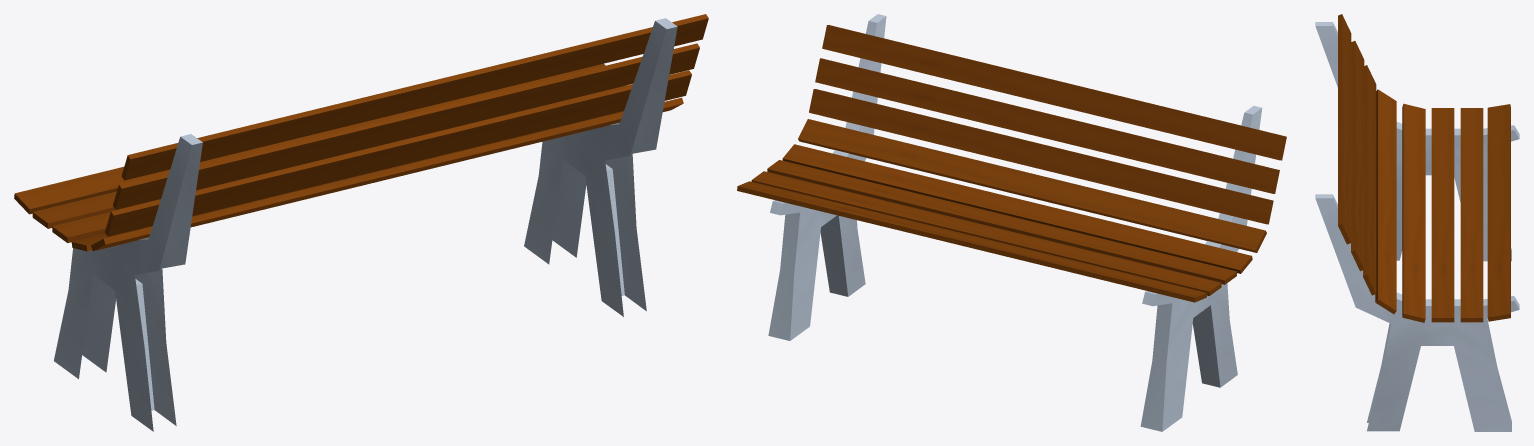
Rendered from Bench.FBX.
3 views of the same model, side by side, from view 1: azimuth 30°, elevation 25°; view 2: azimuth 150°, elevation 25°; view 3: azimuth 270°, elevation 25° (orthographic). The views are drawn at different scales.
Parts seen in each view (by area): view 1: Legs, Plank008, Plank007, Plank006, Plank005, Plank002, Plank001, Plank003, Plank004; view 2: Legs, Plank008, Plank007, Plank006, Plank005, Plank004, Plank003, Plank001, Plank002; view 3: Legs, Plank001, Plank003, Plank002, Plank004, Plank005, Plank008, Plank007, Plank006.
Part boxes in pixels (x1=…): Legs: x1=54, y1=18, x2=677, y2=431; Plank008: x1=121, y1=14, x2=708, y2=180; Plank007: x1=113, y1=43, x2=699, y2=209; Plank006: x1=105, y1=70, x2=691, y2=236; Plank005: x1=91, y1=97, x2=683, y2=251; Plank002: x1=14, y1=63, x2=605, y2=214; Plank001: x1=32, y1=85, x2=624, y2=228; Plank003: x1=52, y1=212, x2=110, y2=243; Plank004: x1=71, y1=111, x2=623, y2=251; Legs: x1=768, y1=14, x2=1262, y2=431; Plank008: x1=822, y1=25, x2=1286, y2=160; Plank007: x1=815, y1=58, x2=1279, y2=193; Plank006: x1=809, y1=89, x2=1273, y2=224; Plank005: x1=798, y1=119, x2=1266, y2=252; Plank004: x1=782, y1=144, x2=1252, y2=273; Plank003: x1=767, y1=160, x2=1236, y2=284; Plank001: x1=751, y1=171, x2=1221, y2=295; Plank002: x1=737, y1=181, x2=1207, y2=302; Legs: x1=1315, y1=22, x2=1519, y2=431; Plank001: x1=1460, y1=108, x2=1483, y2=322; Plank003: x1=1431, y1=108, x2=1454, y2=322; Plank002: x1=1487, y1=104, x2=1510, y2=321; Plank004: x1=1402, y1=103, x2=1425, y2=322; Plank005: x1=1375, y1=89, x2=1396, y2=314; Plank008: x1=1338, y1=14, x2=1351, y2=244; Plank007: x1=1351, y1=41, x2=1364, y2=271; Plank006: x1=1363, y1=65, x2=1376, y2=295.
Size of the model in its own units: 8.94 by 4.6 by 3.68.
